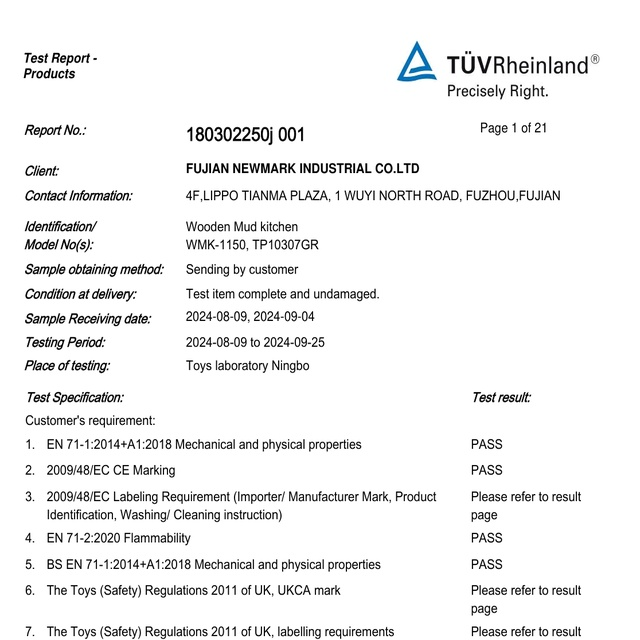tuv_rheinland: (393, 38, 604, 98)
